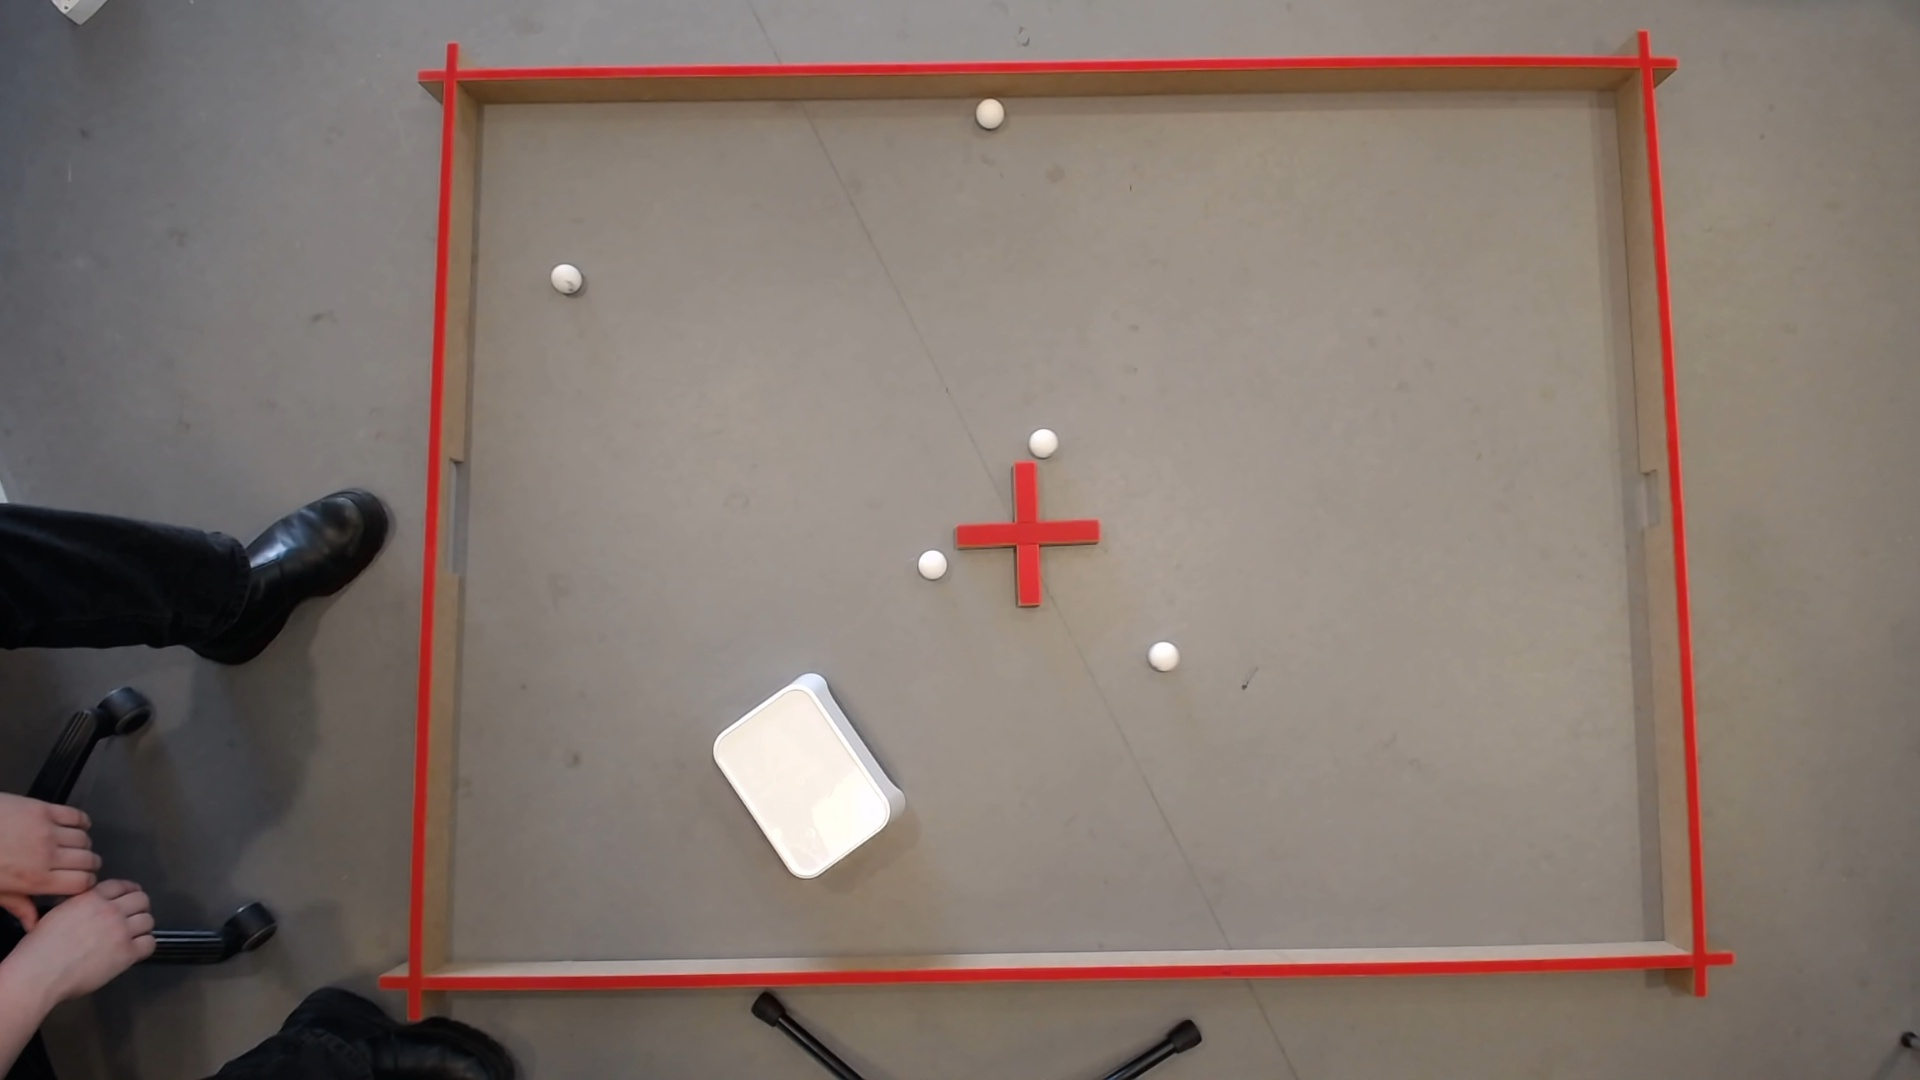balls: (702, 665, 913, 886), (913, 543, 951, 583), (1145, 636, 1182, 671), (1025, 422, 1060, 458), (978, 99, 1001, 121)
car: (550, 261, 578, 282)
